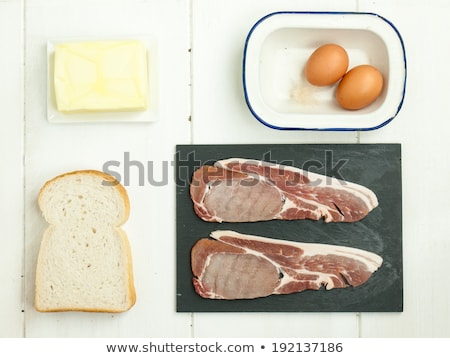bacon: (190, 227, 393, 310), (185, 150, 382, 231)
